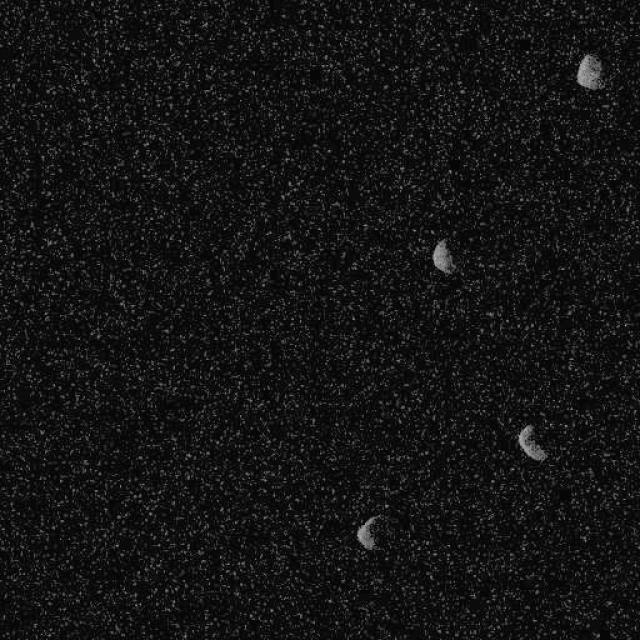D2: (516, 422, 548, 462), (575, 52, 603, 90), (430, 237, 456, 275), (355, 514, 381, 550)
